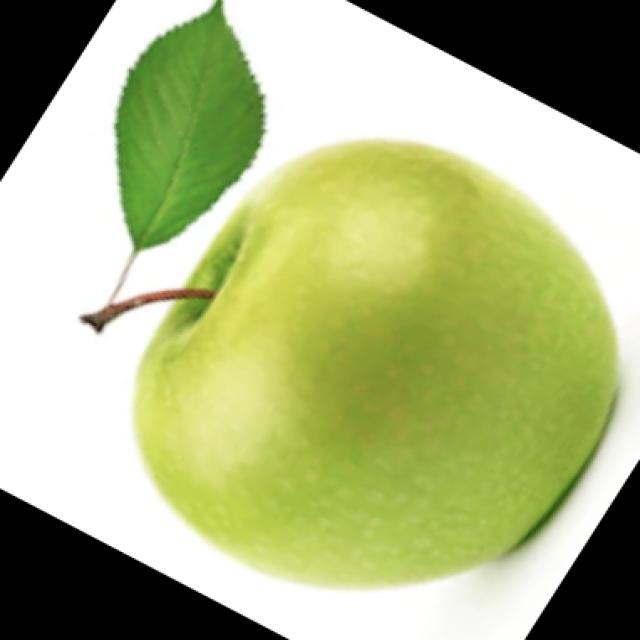Apple: (124, 136, 620, 590)
